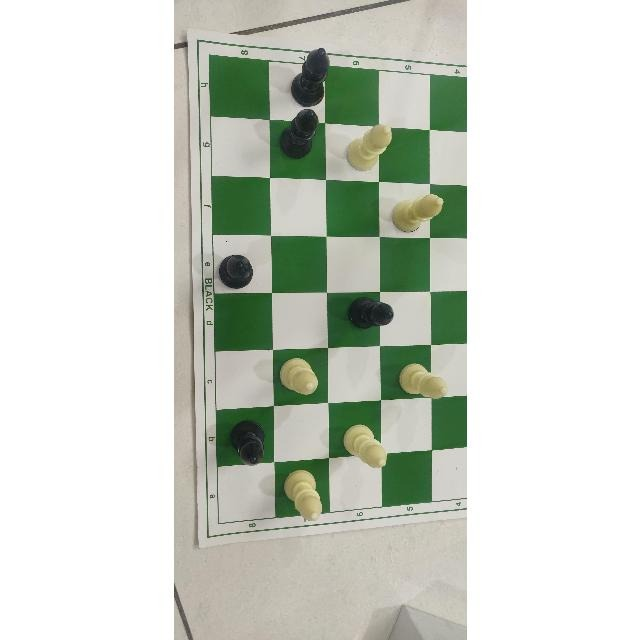black-bishop: (286, 46, 331, 110), (274, 106, 323, 163), (226, 416, 270, 471), (345, 292, 395, 335), (217, 252, 255, 293)
white-bishop: (343, 121, 393, 175), (390, 189, 444, 235), (281, 467, 325, 522), (340, 421, 388, 471), (396, 361, 450, 403), (277, 354, 319, 397)
